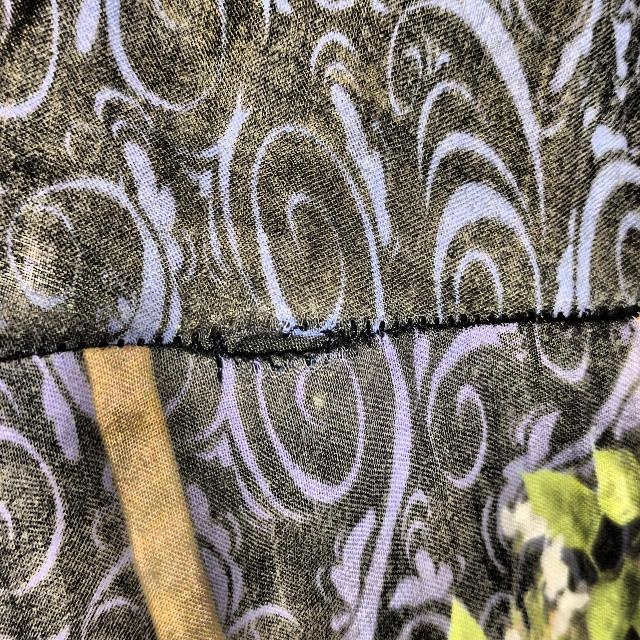seam: (103, 265, 460, 426)
